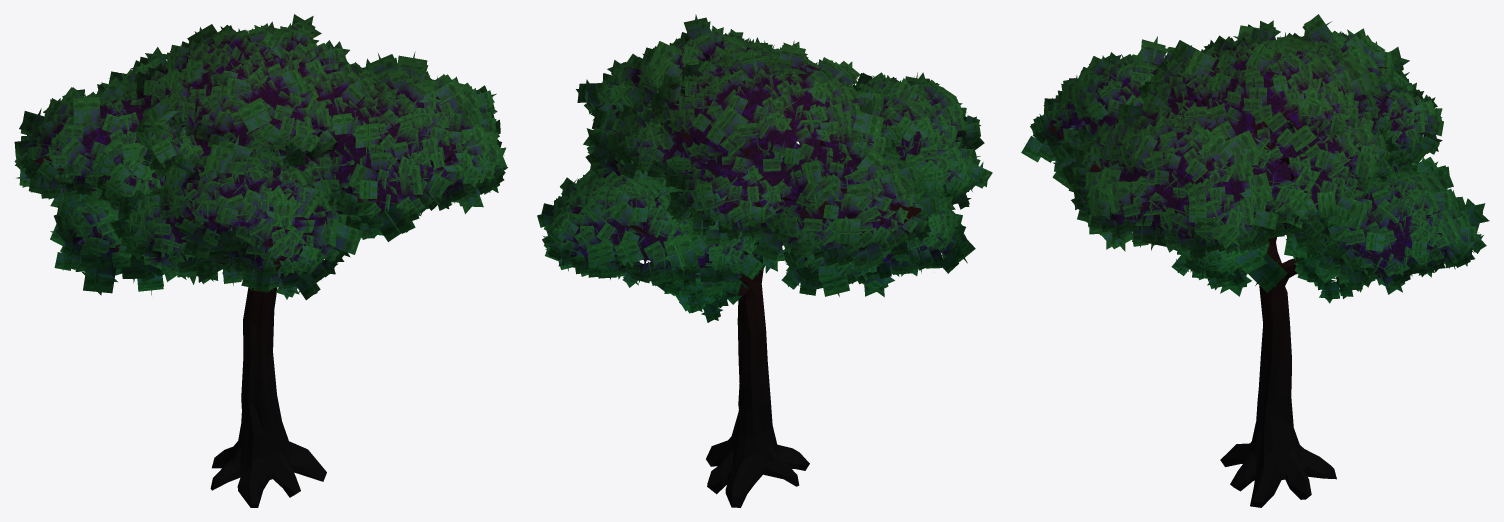
File: SM_Env_Tree_Forest_01.gltf
The picture shows the model from 3 angles, left to right: view 1: azimuth 30°, elevation 25°; view 2: azimuth 150°, elevation 25°; view 3: azimuth 270°, elevation 25°; orthographic projection. The views are drawn at different scales.
Parts seen in each view (by area): view 1: SM_Env_Tree_Forest_01_LOD0, SM_Env_Tree_Forest_01_Branches_LOD0; view 2: SM_Env_Tree_Forest_01_LOD0, SM_Env_Tree_Forest_01_Branches_LOD0; view 3: SM_Env_Tree_Forest_01_LOD0, SM_Env_Tree_Forest_01_Branches_LOD0.
Boxes of the visible parts, left/top/right/bottom form: SM_Env_Tree_Forest_01_LOD0: left=14, top=14, right=507, bottom=507; SM_Env_Tree_Forest_01_Branches_LOD0: left=34, top=93, right=451, bottom=272; SM_Env_Tree_Forest_01_LOD0: left=537, top=14, right=992, bottom=507; SM_Env_Tree_Forest_01_Branches_LOD0: left=616, top=108, right=943, bottom=295; SM_Env_Tree_Forest_01_LOD0: left=1021, top=14, right=1489, bottom=507; SM_Env_Tree_Forest_01_Branches_LOD0: left=1045, top=67, right=1386, bottom=234.
Size of what is drawn, in the model's own units: 17.07 by 17.95 by 16.95.
Materials: 1 (1 with a texture image).
